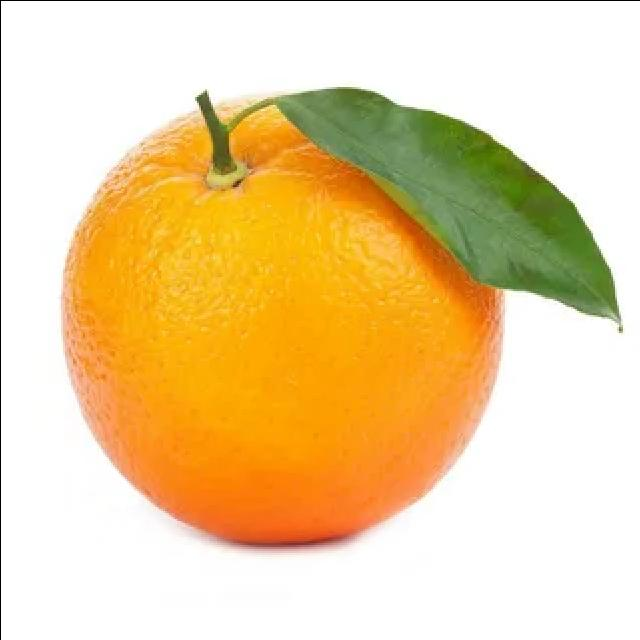orange: (58, 85, 516, 558)
